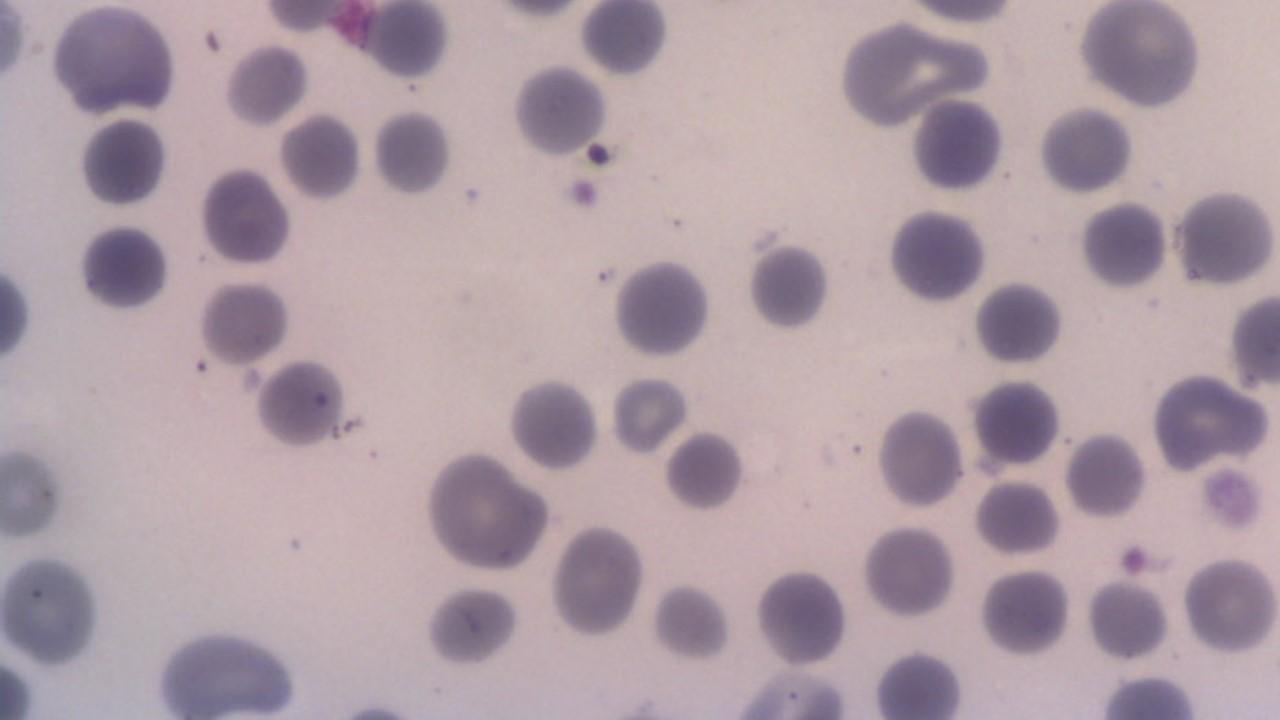Platelets: (0, 552, 109, 669), (881, 204, 992, 305), (194, 166, 296, 271), (503, 372, 604, 474), (907, 96, 1008, 195), (253, 353, 350, 453), (73, 222, 173, 316), (420, 584, 528, 669), (74, 115, 170, 210), (1074, 198, 1170, 292), (968, 277, 1066, 367), (276, 109, 366, 204), (744, 239, 834, 334), (369, 106, 455, 201), (660, 427, 750, 513), (574, 3, 672, 78), (1197, 464, 1265, 533), (0, 259, 36, 372), (0, 0, 32, 88), (336, 692, 417, 718), (562, 173, 604, 214), (580, 138, 618, 172)
RBC: (420, 449, 552, 575), (37, 4, 184, 112), (1, 546, 110, 674), (1077, 1, 1203, 111), (546, 519, 648, 642), (1171, 183, 1279, 291), (608, 256, 714, 362), (751, 561, 853, 667), (503, 370, 603, 476), (508, 60, 610, 162), (196, 164, 294, 270), (1180, 552, 1278, 657), (873, 403, 967, 510), (908, 94, 1006, 196), (860, 521, 958, 622), (1035, 101, 1135, 198), (976, 562, 1072, 660), (252, 355, 348, 452), (1073, 197, 1171, 292), (78, 112, 172, 210), (194, 276, 290, 368), (970, 276, 1066, 368), (968, 376, 1062, 466), (277, 110, 364, 204), (221, 38, 310, 129), (1061, 428, 1149, 520), (1082, 577, 1172, 664), (972, 474, 1062, 558), (870, 643, 966, 719), (366, 0, 452, 81), (1225, 287, 1279, 393), (260, 1, 338, 34), (0, 1, 28, 87)
WBC: (143, 620, 316, 716), (47, 2, 183, 117), (2, 545, 108, 679), (906, 96, 1006, 194)
